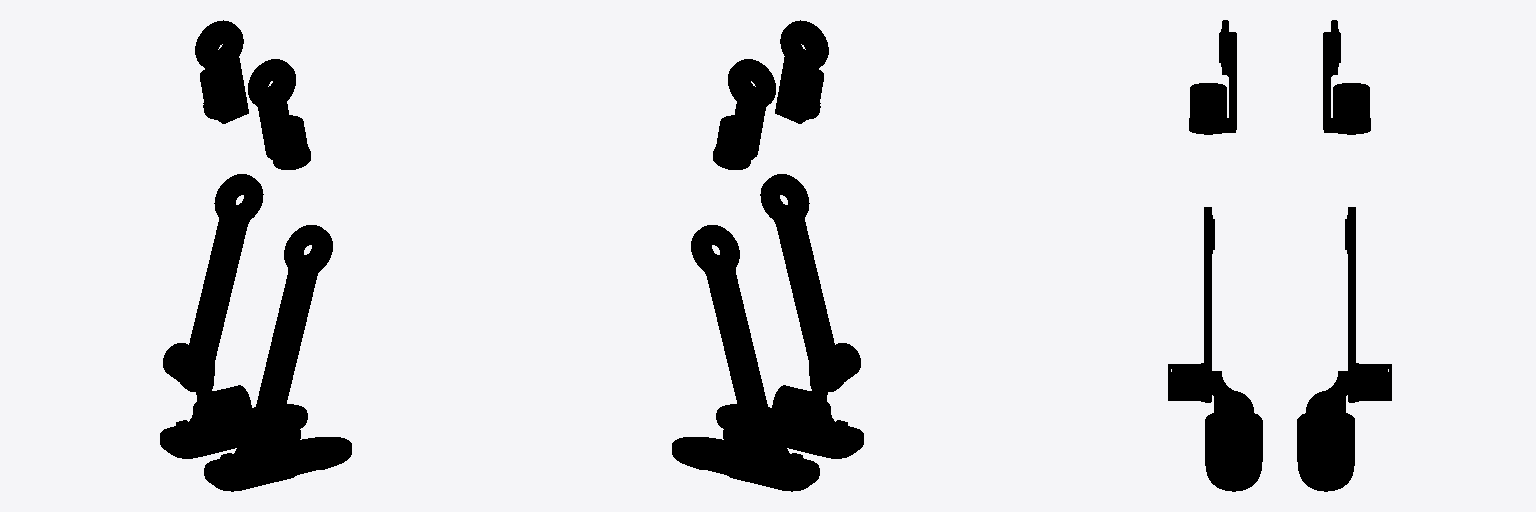
URDF robot description (wsybot_v.3):
<?xml version="1.0" encoding="utf-8"?>
<!-- This URDF was automatically created by SolidWorks to URDF Exporter! Originally created by Stephen Brawner ([email redacted]) 
     Commit Version: 1.6.0-4-g7f85cfe  Build Version: 1.6.7995.38578
     For more information, please see http://wiki.ros.org/sw_urdf_exporter -->
<robot
  name="wsybot_v.3">
  <link
    name="base_link">
    <inertial>
      <origin
        xyz="-0.067351 -1.948E-05 -0.010105"
        rpy="0 0 0" />
      <mass
        value="3.5223" />
      <inertia
        ixx="0.019363"
        ixy="2.879E-05"
        ixz="0.0023599"
        iyy="0.019162"
        iyz="5.64E-06"
        izz="0.034264" />
    </inertial>
    <visual>
      <origin
        xyz="0 0 0"
        rpy="0 0 0" />
      <geometry>
        <mesh
          filename="../meshes/base_link.STL" />
      </geometry>
      <material
        name="">
        <color
          rgba="0 0 0 1" />
      </material>
    </visual>
    <collision>
      <origin
        xyz="0 0 0"
        rpy="0 0 0" />
      <geometry>
        <box size="0.8 0.8 0.3" />
      </geometry>
    </collision>
  </link>
  <link
    name="left_leg_roll_link">
    <inertial>
      <origin
        xyz="0.041063 0.037875 -0.068969"
        rpy="0 0 0" />
      <mass
        value="1.7817" />
      <inertia
        ixx="0.012874"
        ixy="0.0031336"
        ixz="-0.0056433"
        iyy="0.014074"
        iyz="-0.0050334"
        izz="0.0072867" />
    </inertial>
    <visual>
      <origin
        xyz="0 0 0"
        rpy="0 0 0" />
      <geometry>
        <mesh
          filename="../meshes/left_leg_roll_link.STL" />
      </geometry>
      <material
        name="">
        <color
          rgba="0 0 0 1" />
      </material>
    </visual>
    <!-- <collision>
      <origin
        xyz="0 0 0"
        rpy="0 0 0" />
      <geometry>
        <mesh
          filename="package://wsybot_v.3/meshes/left_leg_roll_link.STL" />
      </geometry>
    </collision> -->
  </link>
  <joint
    name="left_leg_roll_joint"
    type="revolute">
    <origin
      xyz="-0.027 0.07 -0.01"
      rpy="0 0 0" />
    <parent
      link="base_link" />
    <child
      link="left_leg_roll_link" />
    <axis
      xyz="1 0 0" />
    <limit
      lower="-0.15"
      upper="0.7"
      effort="120"
      velocity="10.472" />
    <dynamics
      damping="0"
      friction="0" />
  </joint>
  <link
    name="left_leg_pitch_link">
    <inertial>
      <origin
        xyz="0.013423 0.031248 -0.076126"
        rpy="0 0 0" />
      <mass
        value="0.71642" />
      <inertia
        ixx="0.0062349"
        ixy="0.00034223"
        ixz="-0.00091218"
        iyy="0.005599"
        iyz="-0.0019409"
        izz="0.0012225" />
    </inertial>
    <visual>
      <origin
        xyz="0 0 0"
        rpy="0 0 0" />
      <geometry>
        <mesh
          filename="../meshes/left_leg_pitch_link.STL" />
      </geometry>
      <material
        name="">
        <color
          rgba="0 0 0 1" />
      </material>
    </visual>
    <!-- <collision>
      <origin
        xyz="0 0 0"
        rpy="0 0 0" />
      <geometry>
        <mesh
          filename="package://wsybot_v.3/meshes/left_leg_pitch_link.STL" />
      </geometry>
    </collision> -->
  </link>
  <joint
    name="left_leg_pitch_joint"
    type="revolute">
    <origin
      xyz="0.047 -0.0025 -0.075"
      rpy="0 0 0" />
    <parent
      link="left_leg_roll_link" />
    <child
      link="left_leg_pitch_link" />
    <axis
      xyz="0 -1 0" />
    <limit
      lower="-1"
      upper="1.2"
      effort="120"
      velocity="10.472" />
    <dynamics
      damping="0"
      friction="0" />
  </joint>
  <link
    name="left_leg_yaw_link">
    <inertial>
      <origin
        xyz="0.02393 -0.031356 -0.13509"
        rpy="0 0 0" />
      <mass
        value="1.7952" />
      <inertia
        ixx="0.03895"
        ixy="-0.0013431"
        ixz="-0.0064161"
        iyy="0.038696"
        iyz="0.0075837"
        izz="0.0038731" />
    </inertial>
    <visual>
      <origin
        xyz="0 0 0"
        rpy="0 0 0" />
      <geometry>
        <mesh
          filename="../meshes/left_leg_yaw_link.STL" />
      </geometry>
      <material
        name="">
        <color
          rgba="0 0 0 1" />
      </material>
    </visual>
    <!-- <collision>
      <origin
        xyz="0 0 0"
        rpy="0 0 0" />
      <geometry>
        <mesh
          filename="package://wsybot_v.3/meshes/left_leg_yaw_link.STL" />
      </geometry>
    </collision> -->
  </link>
  <joint
    name="left_leg_yaw_joint"
    type="revolute">
    <origin
      xyz="0.0254394580282023 0.043500000000003 -0.144274335816291"
      rpy="0 0 0" />
    <parent
      link="left_leg_pitch_link" />
    <child
      link="left_leg_yaw_link" />
    <axis
      xyz="0.173648177666925 0 -0.984807753012209" />
    <limit
      lower="-1"
      upper="1"
      effort="27"
      velocity="5.5" />
    <dynamics
      damping="0"
      friction="0" />
  </joint>
  <link
    name="left_knee_link">
    <inertial>
      <origin
        xyz="-0.054417 0.0083359 -0.20323"
        rpy="0 0 0" />
      <mass
        value="0.82452" />
      <inertia
        ixx="0.044487"
        ixy="-0.0006678"
        ixz="0.011781"
        iyy="0.047508"
        iyz="-0.0024963"
        izz="0.0036395" />
    </inertial>
    <visual>
      <origin
        xyz="0 0 0"
        rpy="0 0 0" />
      <geometry>
        <mesh
          filename="../meshes/left_knee_link.STL" />
      </geometry>
      <material
        name="">
        <color
          rgba="0 0 0 1" />
      </material>
    </visual>
    <collision>
      <origin
        xyz="0 -0.015 0"
        rpy="0 0 0" />
      <geometry>
        <cylinder length="0.3" radius="0.08" />
      </geometry>
    </collision>
  </link>
  <joint
    name="left_knee_joint"
    type="revolute">
    <origin
      xyz="0.0266549952718271 0.00670000000034304 -0.151167990087403"
      rpy="0 0 0" />
    <parent
      link="left_leg_yaw_link" />
    <child
      link="left_knee_link" />
    <axis
      xyz="0 1 0" />
    <limit
      lower="-0.4"
      upper="1.5"
      effort="120"
      velocity="10.472" />
    <dynamics
      damping="0"
      friction="0" />
  </joint>
  <link
    name="left_ankle_pitch_link">
    <inertial>
      <origin
        xyz="0.023429 -0.0364 -0.0437"
        rpy="0 0 0" />
      <mass
        value="0.51357" />
      <inertia
        ixx="0.0019465"
        ixy="-0.00048604"
        ixz="-0.00060294"
        iyy="0.0015855"
        iyz="0.00089759"
        izz="0.0012065" />
    </inertial>
    <visual>
      <origin
        xyz="0 0 0"
        rpy="0 0 0" />
      <geometry>
        <mesh
          filename="../meshes/left_ankle_pitch_link.STL" />
      </geometry>
      <material
        name="">
        <color
          rgba="0 0 0 1" />
      </material>
    </visual>
    <!-- <collision>
      <origin
        xyz="0 0 0"
        rpy="0 0 0" />
      <geometry>
        <mesh
          filename="package://wsybot_v.3/meshes/left_ankle_pitch_link.STL" />
      </geometry>
    </collision> -->
  </link>
  <joint
    name="left_ankle_pitch_joint"
    type="revolute">
    <origin
      xyz="-0.0776457135307382 -0.00575000000036324 -0.289777747886718"
      rpy="0 0 0" />
    <parent
      link="left_knee_link" />
    <child
      link="left_ankle_pitch_link" />
    <axis
      xyz="0 -1 0" />
    <limit
      lower="-1"
      upper="1"
      effort="27"
      velocity="5.5" />
    <dynamics
      damping="0"
      friction="0" />
  </joint>
  <link
    name="left_ankle_roll_link">
    <inertial>
      <origin
        xyz="0.022431 0 -0.035744"
        rpy="0 0 0" />
      <mass
        value="0.55727" />
      <inertia
        ixx="0.0010521"
        ixy="4E-08"
        ixz="-0.00058088"
        iyy="0.0031812"
        iyz="-2E-08"
        izz="0.0025829" />
    </inertial>
    <visual>
      <origin
        xyz="0 0 0"
        rpy="0 0 0" />
      <geometry>
        <mesh
          filename="../meshes/left_ankle_roll_link.STL" />
      </geometry>
      <material
        name="">
        <color
          rgba="0 0 0 1" />
      </material>
    </visual>
    <collision>
      <origin
        xyz="0 0 0"
        rpy="0 0 0" />
      <geometry>
        <mesh
          filename="../meshes/left_ankle_roll_link.STL" />
      </geometry>
    </collision>
  </link>
  <joint
    name="left_ankle_roll_joint"
    type="revolute">
    <origin
      xyz="0.000250000000259765 -0.0402500000000252 -0.049999999999963"
      rpy="0 0 0" />
    <parent
      link="left_ankle_pitch_link" />
    <child
      link="left_ankle_roll_link" />
    <axis
      xyz="-1 0 0" />
    <limit
      lower="-0.5"
      upper="0.5"
      effort="27"
      velocity="5.5" />
    <dynamics
      damping="0"
      friction="0" />
  </joint>
  <link
    name="right_leg_roll_link">
    <inertial>
      <origin
        xyz="0.041283 -0.037875 -0.068969"
        rpy="0 0 0" />
      <mass
        value="1.7817" />
      <inertia
        ixx="0.012874"
        ixy="-0.0031507"
        ixz="-0.0056739"
        iyy="0.014111"
        iyz="0.0050334"
        izz="0.0073234" />
    </inertial>
    <visual>
      <origin
        xyz="0 0 0"
        rpy="0 0 0" />
      <geometry>
        <mesh
          filename="../meshes/right_leg_roll_link.STL" />
      </geometry>
      <material
        name="">
        <color
          rgba="0 0 0 1" />
      </material>
    </visual>
    <!-- <collision>
      <origin
        xyz="0 0 0"
        rpy="0 0 0" />
      <geometry>
        <mesh
          filename="package://wsybot_v.3/meshes/right_leg_roll_link.STL" />
      </geometry>
    </collision> -->
  </link>
  <joint
    name="right_leg_roll_joint"
    type="revolute">
    <origin
      xyz="-0.027 -0.07 -0.01"
      rpy="0 0 0" />
    <parent
      link="base_link" />
    <child
      link="right_leg_roll_link" />
    <axis
      xyz="1 0 0" />
    <limit
      lower="-0.7"
      upper="0.15"
      effort="120"
      velocity="10.472" />
    <dynamics
      damping="0"
      friction="0" />
  </joint>
  <link
    name="right_leg_pitch_link">
    <inertial>
      <origin
        xyz="0.013423 -0.031248 -0.076126"
        rpy="0 0 0" />
      <mass
        value="0.71642" />
      <inertia
        ixx="0.0062349"
        ixy="-0.00034223"
        ixz="-0.00091217"
        iyy="0.005599"
        iyz="0.0019409"
        izz="0.0012225" />
    </inertial>
    <visual>
      <origin
        xyz="0 0 0"
        rpy="0 0 0" />
      <geometry>
        <mesh
          filename="../meshes/right_leg_pitch_link.STL" />
      </geometry>
      <material
        name="">
        <color
          rgba="0 0 0 1" />
      </material>
    </visual>
    <!-- <collision>
      <origin
        xyz="0 0 0"
        rpy="0 0 0" />
      <geometry>
        <mesh
          filename="package://wsybot_v.3/meshes/right_leg_pitch_link.STL" />
      </geometry>
    </collision> -->
  </link>
  <joint
    name="right_leg_pitch_joint"
    type="revolute">
    <origin
      xyz="0.0469999999999982 0.00250000000000683 -0.0749999867630524"
      rpy="0 0 0" />
    <parent
      link="right_leg_roll_link" />
    <child
      link="right_leg_pitch_link" />
    <axis
      xyz="0 1 0" />
    <limit
      lower="-1.2"
      upper="1"
      effort="120"
      velocity="10.472" />
    <dynamics
      damping="0"
      friction="0" />
  </joint>
  <link
    name="right_leg_yaw_link">
    <inertial>
      <origin
        xyz="0.023716 0.031356 -0.13513"
        rpy="0 0 0" />
      <mass
        value="1.7952" />
      <inertia
        ixx="0.038971"
        ixy="0.0013317"
        ixz="-0.0063586"
        iyy="0.038696"
        iyz="-0.0075857"
        izz="0.0038522" />
    </inertial>
    <visual>
      <origin
        xyz="0 0 0"
        rpy="0 0 0" />
      <geometry>
        <mesh
          filename="../meshes/right_leg_yaw_link.STL" />
      </geometry>
      <material
        name="">
        <color
          rgba="0 0 0 1" />
      </material>
    </visual>
    <!-- <collision>
      <origin
        xyz="0 0 0"
        rpy="0 0 0" />
      <geometry>
        <mesh
          filename="package://wsybot_v.3/meshes/right_leg_yaw_link.STL" />
      </geometry>
    </collision> -->
  </link>
  <joint
    name="right_leg_yaw_joint"
    type="revolute">
    <origin
      xyz="0.0254394580282356 -0.0434999999999856 -0.144274335816282"
      rpy="0 0 0" />
    <parent
      link="right_leg_pitch_link" />
    <child
      link="right_leg_yaw_link" />
    <axis
      xyz="0.173648177666924 0 -0.984807753012209" />
    <limit
      lower="-1"
      upper="1"
      effort="27"
      velocity="5.5" />
    <dynamics
      damping="0"
      friction="0" />
  </joint>
  <link
    name="right_knee_link">
    <inertial>
      <origin
        xyz="-0.054417 -0.0083359 -0.20323"
        rpy="0 0 0" />
      <mass
        value="0.82452" />
      <inertia
        ixx="0.044487"
        ixy="0.0006678"
        ixz="0.011781"
        iyy="0.047508"
        iyz="0.0024963"
        izz="0.0036395" />
    </inertial>
    <visual>
      <origin
        xyz="0 0 0"
        rpy="0 0 0" />
      <geometry>
        <mesh
          filename="../meshes/right_knee_link.STL" />
      </geometry>
      <material
        name="">
        <color
          rgba="0 0 0 1" />
      </material>
    </visual>
    <collision>
      <origin
        xyz="0 0.015 0"
        rpy="0 0 0" />
      <geometry>
        <cylinder length="0.3" radius="0.08" />>
      </geometry>
    </collision>
  </link>
  <joint
    name="right_knee_joint"
    type="revolute">
    <origin
      xyz="0.026654995271894 -0.00670000000000134 -0.151167990087366"
      rpy="0 0 0" />
    <parent
      link="right_leg_yaw_link" />
    <child
      link="right_knee_link" />
    <axis
      xyz="0 -1 0" />
    <limit
      lower="-1.5"
      upper="0.4"
      effort="120"
      velocity="10.472" />
    <dynamics
      damping="0"
      friction="0" />
  </joint>
  <link
    name="right_ankle_pitch_link">
    <inertial>
      <origin
        xyz="0.023429 0.0364 -0.0437"
        rpy="0 0 0" />
      <mass
        value="0.51357" />
      <inertia
        ixx="0.0019465"
        ixy="0.00048604"
        ixz="-0.00060294"
        iyy="0.0015855"
        iyz="-0.00089758"
        izz="0.0012065" />
    </inertial>
    <visual>
      <origin
        xyz="0 0 0"
        rpy="0 0 0" />
      <geometry>
        <mesh
          filename="../meshes/right_ankle_pitch_link.STL" />
      </geometry>
      <material
        name="">
        <color
          rgba="0 0 0 1" />
      </material>
    </visual>
    <!-- <collision>
      <origin
        xyz="0 0 0"
        rpy="0 0 0" />
      <geometry>
        <mesh
          filename="package://wsybot_v.3/meshes/right_ankle_pitch_link.STL" />
      </geometry>
    </collision> -->
  </link>
  <joint
    name="right_ankle_pitch_joint"
    type="revolute">
    <origin
      xyz="-0.0776457135307703 0.0057500000000052 -0.289777747886716"
      rpy="0 0 0" />
    <parent
      link="right_knee_link" />
    <child
      link="right_ankle_pitch_link" />
    <axis
      xyz="0 1 0" />
    <limit
      lower="-1"
      upper="1"
      effort="27"
      velocity="5.5" />
    <dynamics
      damping="0"
      friction="0" />
  </joint>
  <link
    name="right_ankle_roll_link">
    <inertial>
      <origin
        xyz="0.022431 0 -0.035744"
        rpy="0 0 0" />
      <mass
        value="0.55727" />
      <inertia
        ixx="0.0010521"
        ixy="4E-08"
        ixz="-0.00058088"
        iyy="0.0031812"
        iyz="-2E-08"
        izz="0.0025829" />
    </inertial>
    <visual>
      <origin
        xyz="0 0 0"
        rpy="0 0 0" />
      <geometry>
        <mesh
          filename="../meshes/right_ankle_roll_link.STL" />
      </geometry>
      <material
        name="">
        <color
          rgba="0 0 0 1" />
      </material>
    </visual>
    <collision>
      <origin
        xyz="0 0 0"
        rpy="0 0 0" />
      <geometry>
        <mesh
          filename="../meshes/right_ankle_roll_link.STL" />
      </geometry>
    </collision>
  </link>
  <joint
    name="right_ankle_roll_joint"
    type="revolute">
    <origin
      xyz="0.000249999999972779 0.040249999999599 -0.0499999999999262"
      rpy="0 0 0" />
    <parent
      link="right_ankle_pitch_link" />
    <child
      link="right_ankle_roll_link" />
    <axis
      xyz="-1 0 0" />
    <limit
      lower="-0.5"
      upper="0.5"
      effort="27"
      velocity="5.5" />
    <dynamics
      damping="0"
      friction="0" />
  </joint>
</robot>

--- Render facts (derived) ---
Views: 3 orthographic renders of the robot side by side, from view 1: azimuth 30°, elevation 25°; view 2: azimuth 150°, elevation 25°; view 3: azimuth 270°, elevation 25°.
Model wsybot_v.3 with 13 links and 12 joints (12 revolute), rooted at base_link, posed every joint at zero.
Visible links, largest first — view 1: right_knee_link, left_knee_link, right_ankle_roll_link, right_leg_pitch_link, left_leg_pitch_link, left_ankle_roll_link, left_ankle_pitch_link; view 2: left_knee_link, right_knee_link, left_ankle_roll_link, left_leg_pitch_link, right_leg_pitch_link, right_ankle_roll_link, right_ankle_pitch_link; view 3: left_leg_pitch_link, right_leg_pitch_link, left_ankle_roll_link, right_ankle_roll_link, left_knee_link, right_knee_link, left_ankle_pitch_link, right_ankle_pitch_link.
Boxes of the visible links, x1=… form: right_knee_link: x1=248, y1=225, x2=332, y2=454; left_knee_link: x1=163, y1=174, x2=263, y2=391; right_ankle_roll_link: x1=204, y1=433, x2=351, y2=491; right_leg_pitch_link: x1=248, y1=59, x2=310, y2=169; left_leg_pitch_link: x1=195, y1=20, x2=248, y2=123; left_ankle_roll_link: x1=160, y1=400, x2=307, y2=458; left_ankle_pitch_link: x1=189, y1=364, x2=251, y2=429; left_knee_link: x1=691, y1=225, x2=775, y2=454; right_knee_link: x1=760, y1=174, x2=860, y2=391; left_ankle_roll_link: x1=672, y1=433, x2=819, y2=491; left_leg_pitch_link: x1=713, y1=59, x2=775, y2=169; right_leg_pitch_link: x1=775, y1=20, x2=828, y2=123; right_ankle_roll_link: x1=716, y1=400, x2=863, y2=458; right_ankle_pitch_link: x1=772, y1=364, x2=834, y2=429; left_leg_pitch_link: x1=1323, y1=20, x2=1370, y2=134; right_leg_pitch_link: x1=1189, y1=20, x2=1236, y2=134; left_ankle_roll_link: x1=1297, y1=413, x2=1354, y2=491; right_ankle_roll_link: x1=1205, y1=413, x2=1262, y2=491; left_knee_link: x1=1345, y1=207, x2=1391, y2=402; right_knee_link: x1=1168, y1=207, x2=1214, y2=402; left_ankle_pitch_link: x1=1306, y1=371, x2=1347, y2=444; right_ankle_pitch_link: x1=1212, y1=371, x2=1253, y2=444.
Bounding box of the posed robot: 0.257 × 0.3469 × 0.7337 m (x, y, z).
Meshes: 13 distinct files referenced, 8 mesh visuals loaded (8 binary STL); not drawn: 5 (reference not matched to a file when rendering).
